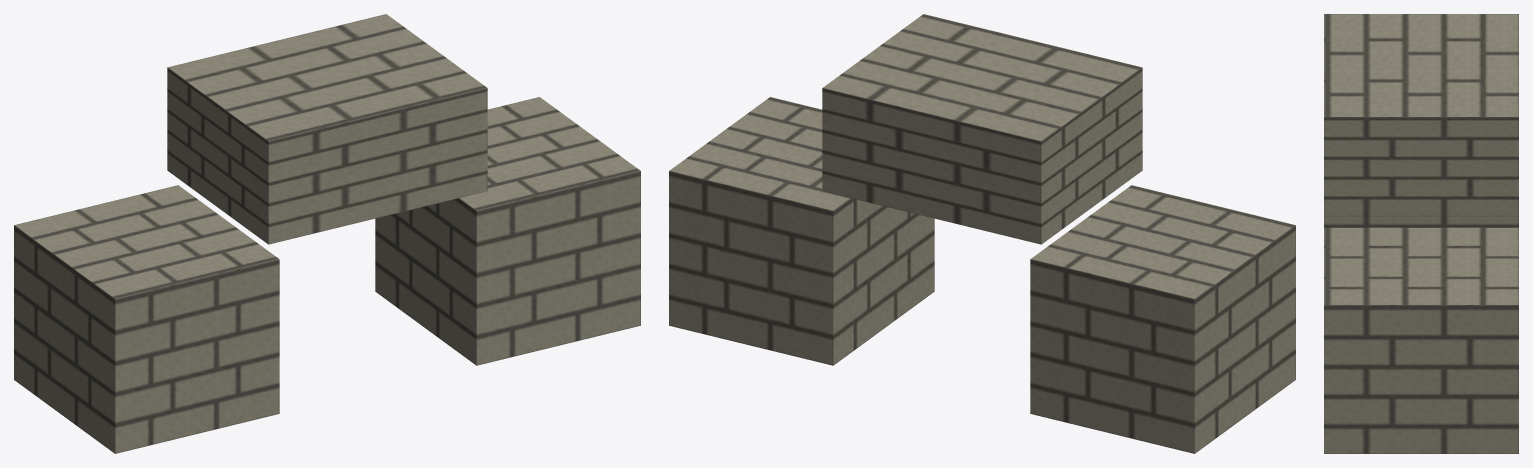
The model's file is gate-lod2.glb.
3 views of the same model, side by side, from view 1: azimuth 30°, elevation 25°; view 2: azimuth 150°, elevation 25°; view 3: azimuth 270°, elevation 25° (orthographic). The views are drawn at different scales.
Bounding box in the file's own units: 0.96 × 0.48 × 0.32.
Materials: 1 (1 with a texture image).
